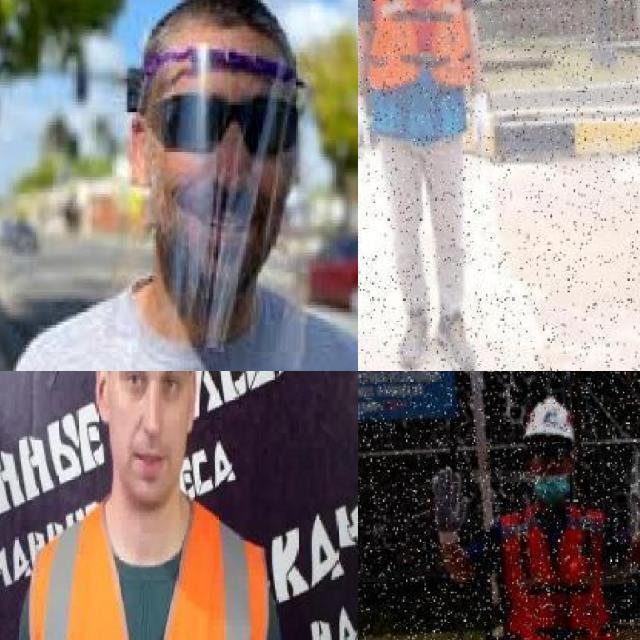apron: (430, 466, 470, 546), (468, 92, 490, 154), (358, 93, 371, 162), (630, 453, 640, 530)
